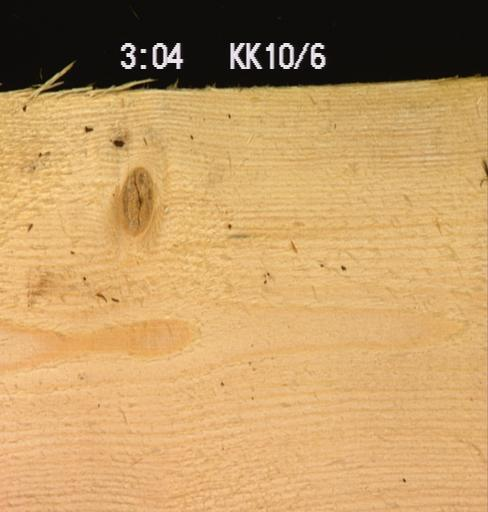sound_knot: (116, 165, 153, 237)
